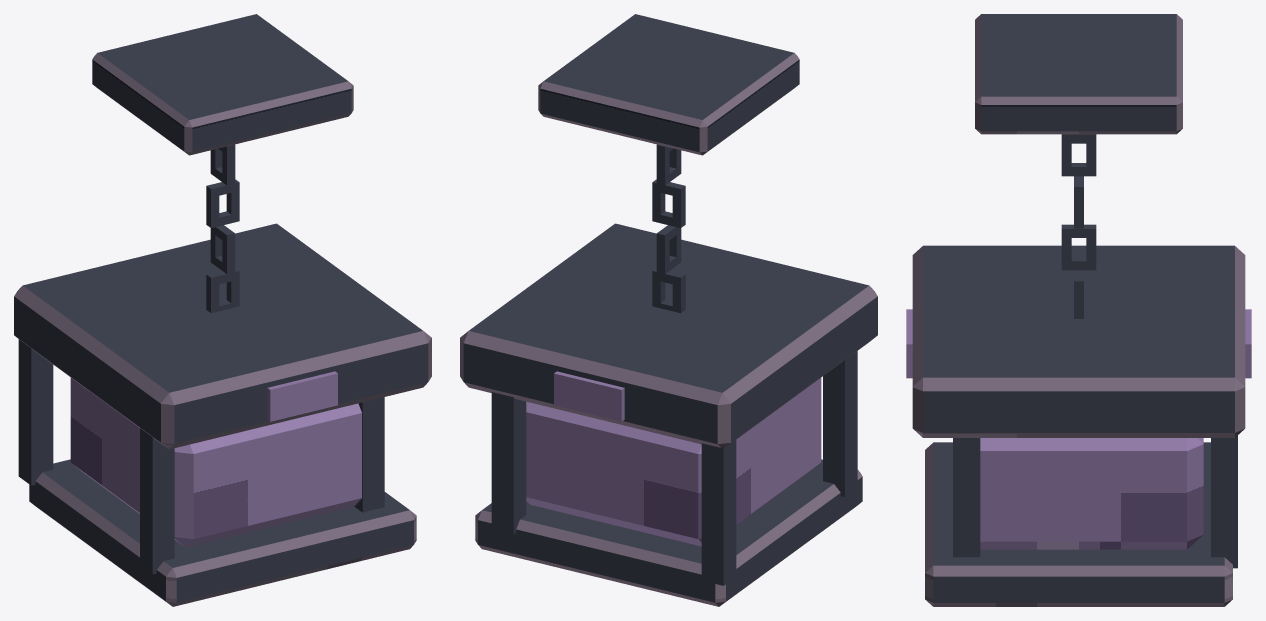
File: placed_uv_pendant.obj
The picture shows the model from 3 angles, left to right: view 1: azimuth 30°, elevation 25°; view 2: azimuth 150°, elevation 25°; view 3: azimuth 270°, elevation 25°; orthographic projection. The views are drawn at different scales.
Visible parts, largest first — view 1: model; view 2: model; view 3: model.
Part boxes in pixels (left/top/right/bottom): model: left=14, top=14, right=431, bottom=606; model: left=460, top=14, right=877, bottom=606; model: left=906, top=14, right=1251, bottom=606.
Size of the model in its own units: 0.5 by 0.875 by 0.5187.
